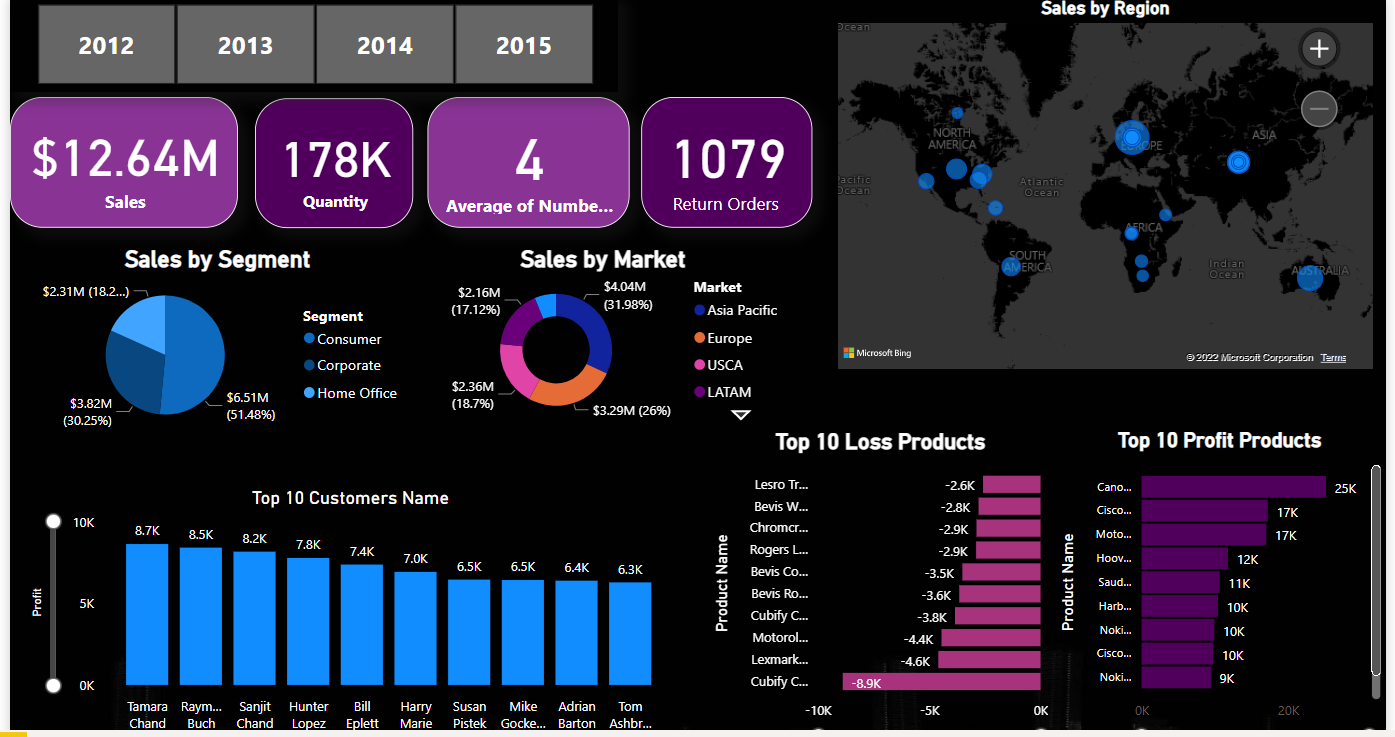

This screenshot's page, from the dashboard's own definition file:
{"tool":"powerbi","page":{"name":"Page 1","canvas":[1280,720],"ordinal":0},"visuals":[{"type":"card","fields":{"Values":["Orders.Sales"]},"box":[0,92.9,212.3,121.8],"z":0},{"type":"card","fields":{"Values":["Orders.Quantity"]},"box":[227.9,94.1,147.1,120.6],"z":1000},{"type":"card","fields":{"Values":["Orders.C=Number of Days "]},"box":[388.3,92.9,188.1,121.8],"z":2000},{"type":"slicer","fields":{"Values":["Orders.Year"]},"box":[0,0,566,88],"z":3000},{"type":"card","fields":{"Values":["Returns.Return Orders "]},"box":[587.3,92.9,159.2,121.8],"z":4000},{"type":"map","fields":{"Size":["Orders.Sales"],"Category":["Orders.Region"]},"box":[764.6,0,507.7,351],"z":5000},{"type":"barChart","title":"Top 10 Profit Products","fields":{"Y":["Orders.Profit"],"Category":["Orders.Product Name"]},"box":[970.9,401.6,308.7,318.4],"z":6000},{"type":"barChart","title":"Top 10 Loss Products","fields":{"Y":["Orders.Profit"],"Category":["Orders.Product Name"]},"box":[648.8,401.6,322,318.4],"z":7000},{"type":"pieChart","fields":{"Category":["Orders.Segment"],"Y":["Orders.Sales"]},"box":[12.1,231.6,363,179.7],"z":8000},{"type":"donutChart","fields":{"Category":["Orders.Market"],"Y":["Orders.Sales"]},"box":[375.1,231.6,352.2,170.1],"z":9000},{"type":"columnChart","title":"Top 10 Customers Name ","fields":{"Category":["Orders.Customer Name"],"Y":["Orders.Profit"]},"box":[12.1,455.9,610.3,244.8],"z":10000}]}

Visuals, with their boxes on the page's 1280x720 design canvas (x1, y1, x2, y2). These are canvas units, not pixel positions in the 1395x737 screenshot, which may show the page scaled, cropped or inside an application window:
card - Orders.Sales: x1=0, y1=93, x2=212, y2=215
card - Orders.Quantity: x1=228, y1=94, x2=375, y2=215
card - Orders.C=Number of Days : x1=388, y1=93, x2=576, y2=215
slicer - Orders.Year: x1=0, y1=0, x2=566, y2=88
card - Returns.Return Orders : x1=587, y1=93, x2=746, y2=215
map - Orders.Sales x Orders.Region: x1=765, y1=0, x2=1272, y2=351
"Top 10 Profit Products" barChart: x1=971, y1=402, x2=1280, y2=720
"Top 10 Loss Products" barChart: x1=649, y1=402, x2=971, y2=720
pieChart - Orders.Segment x Orders.Sales: x1=12, y1=232, x2=375, y2=411
donutChart - Orders.Market x Orders.Sales: x1=375, y1=232, x2=727, y2=402
"Top 10 Customers Name " columnChart: x1=12, y1=456, x2=622, y2=701
